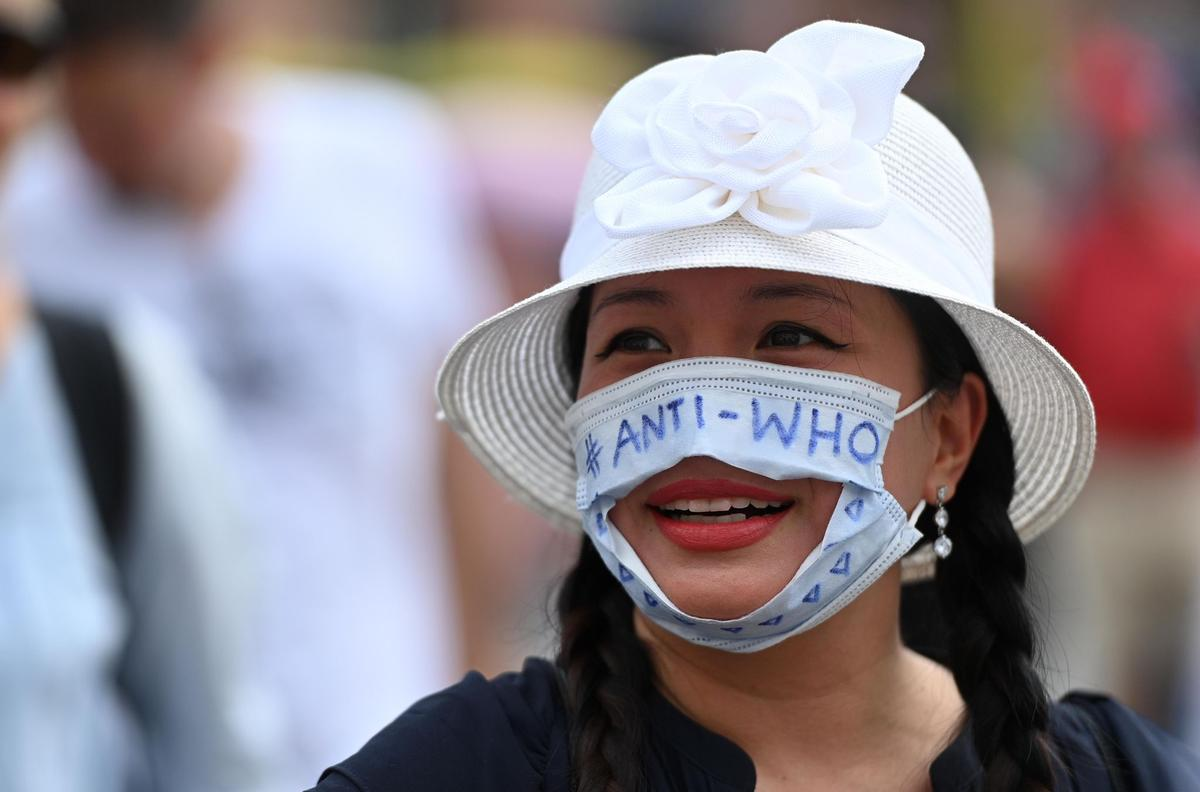with_incorrect_mask: (559, 285, 917, 657)
